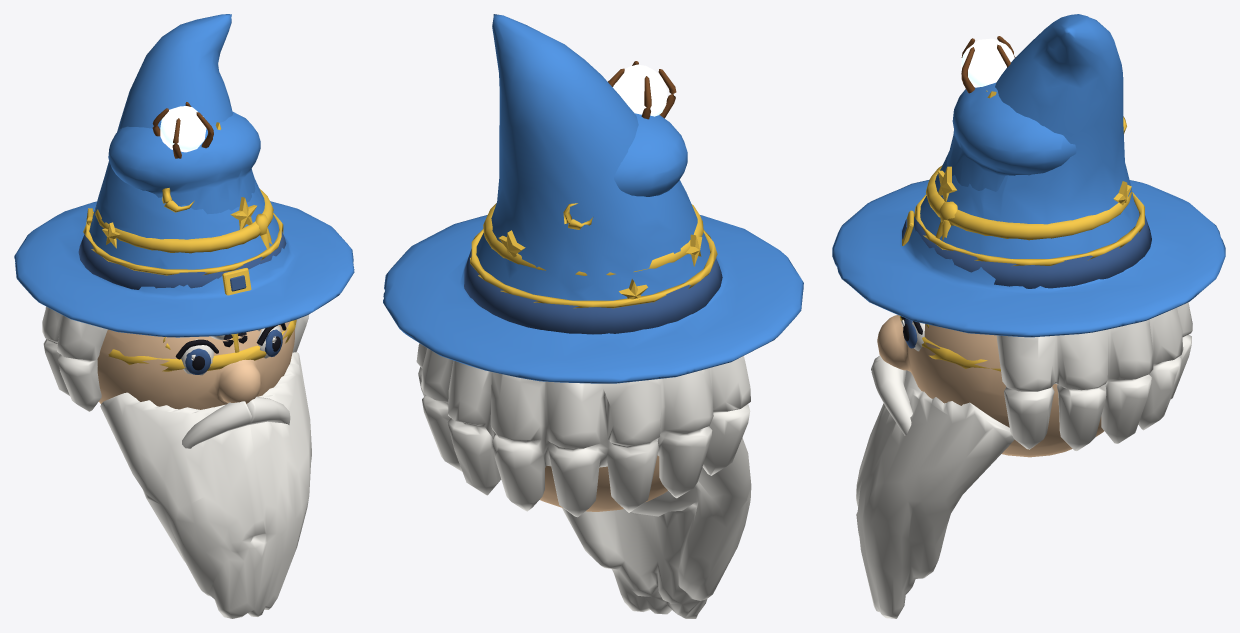
Rendered from wizard-low.glb.
3 views of the same model, side by side, from view 1: azimuth 30°, elevation 25°; view 2: azimuth 150°, elevation 25°; view 3: azimuth 270°, elevation 25° (orthographic). The views are drawn at different scales.
Parts seen in each view (by area): view 1: wizard_Head, wizard_Body, wizard_HandR; view 2: wizard_Head, wizard_Body, wizard_HandR; view 3: wizard_Head, wizard_Body, wizard_HandR.
Part boxes in pixels (x1=…): wizard_Head: x1=14, y1=14, x2=354, y2=618; wizard_Body: x1=95, y1=111, x2=296, y2=371; wizard_HandR: x1=152, y1=102, x2=213, y2=158; wizard_Head: x1=383, y1=14, x2=803, y2=618; wizard_Body: x1=483, y1=113, x2=703, y2=275; wizard_HandR: x1=608, y1=61, x2=676, y2=119; wizard_Head: x1=832, y1=14, x2=1225, y2=618; wizard_Body: x1=900, y1=82, x2=1132, y2=371; wizard_HandR: x1=961, y1=36, x2=1015, y2=93.
Size of the model in its own units: 0.2976 by 0.5102 by 0.2973.
